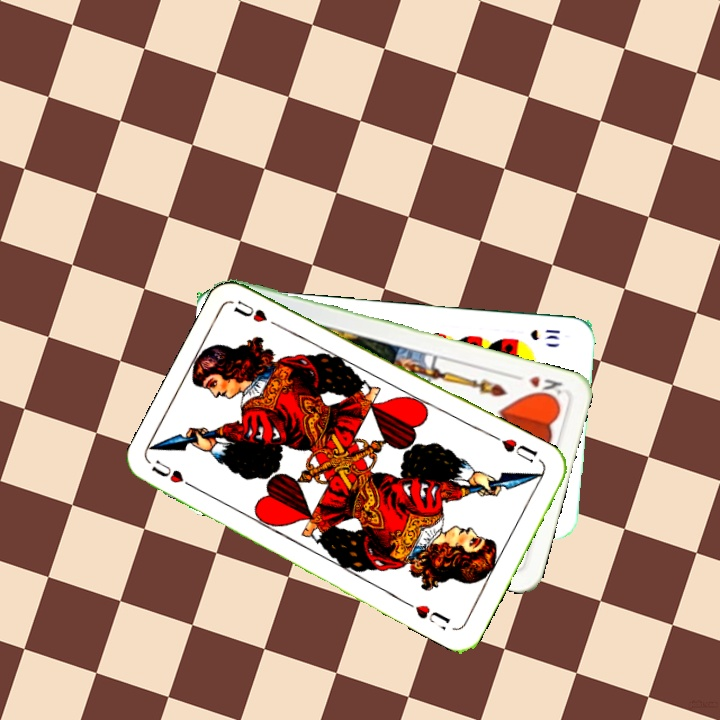HK: (525, 371, 567, 403)
HU: (147, 456, 202, 494), (490, 431, 540, 466)
S10: (526, 325, 562, 343)
